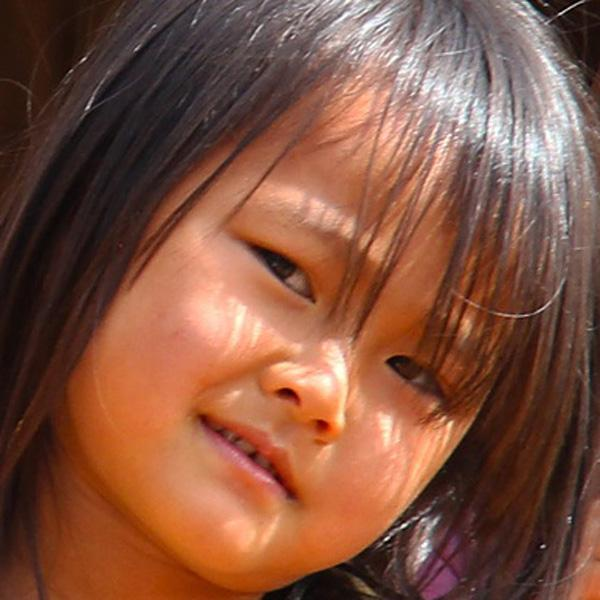Eyes: (229, 228, 324, 309), (382, 342, 455, 406)
